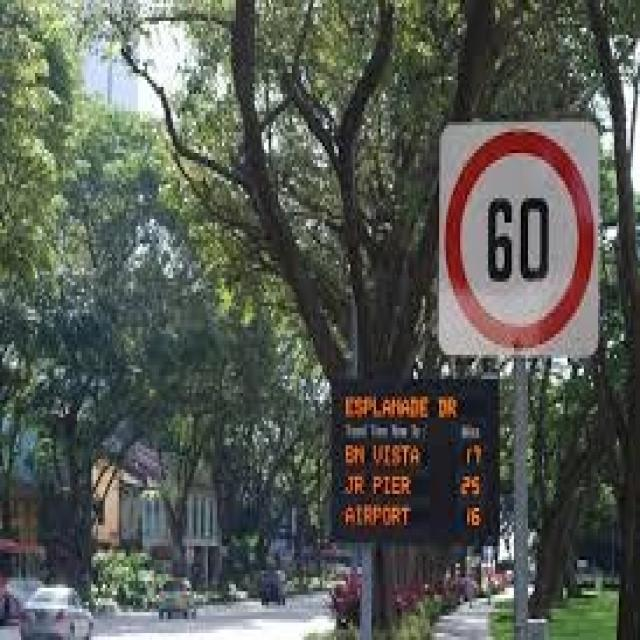speed_limit_60: (442, 126, 592, 344)
